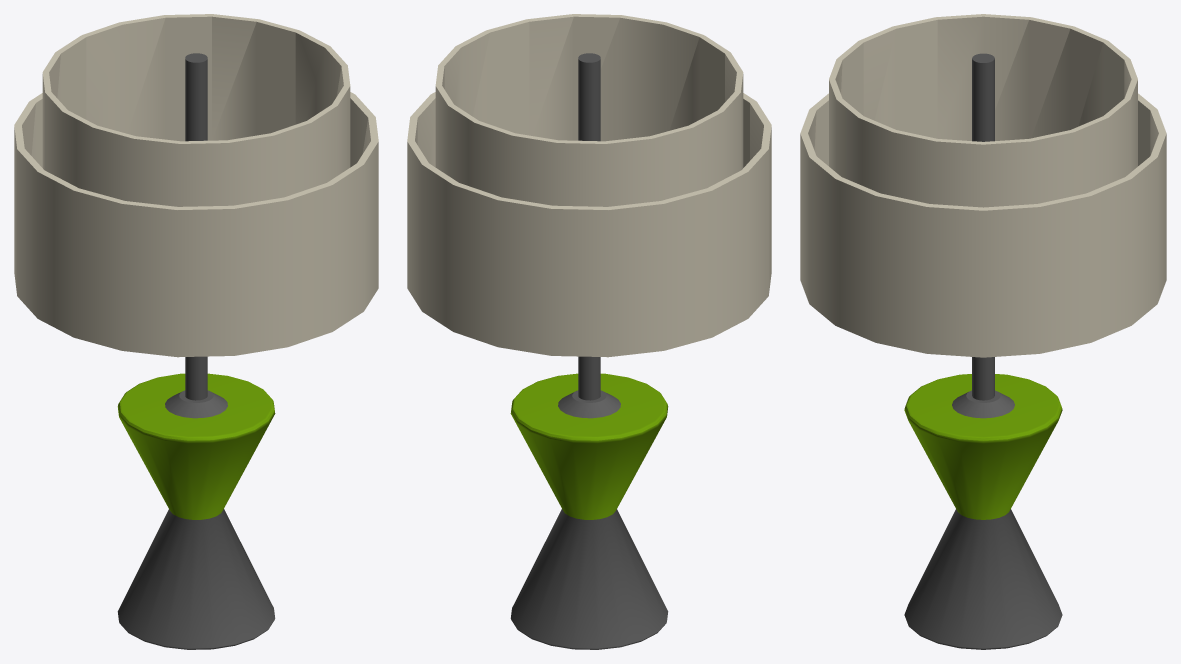
File: asset_lamp_clean.fbx
The picture shows the model from 3 angles, left to right: view 1: azimuth 30°, elevation 25°; view 2: azimuth 150°, elevation 25°; view 3: azimuth 270°, elevation 25°; orthographic projection.
Visible parts, largest first — view 1: pCylinder3, pCylinder4, pCylinder7, pCylinder5, pCylinder6; view 2: pCylinder3, pCylinder4, pCylinder7, pCylinder5, pCylinder6; view 3: pCylinder3, pCylinder4, pCylinder7, pCylinder5, pCylinder6.
Boxes of the visible parts, x1,y1,x2,y2 form: pCylinder3: [14, 92, 378, 357]; pCylinder4: [42, 14, 350, 206]; pCylinder7: [117, 373, 275, 649]; pCylinder5: [185, 53, 207, 400]; pCylinder6: [165, 390, 227, 418]; pCylinder3: [407, 92, 771, 357]; pCylinder4: [435, 14, 743, 206]; pCylinder7: [510, 373, 668, 649]; pCylinder5: [578, 53, 600, 400]; pCylinder6: [558, 390, 620, 418]; pCylinder3: [800, 93, 1166, 357]; pCylinder4: [829, 14, 1137, 207]; pCylinder7: [904, 374, 1062, 649]; pCylinder5: [972, 53, 994, 400]; pCylinder6: [952, 390, 1014, 418].
Bounding box in the file's own units: 8.17 × 13.77 × 8.17.
